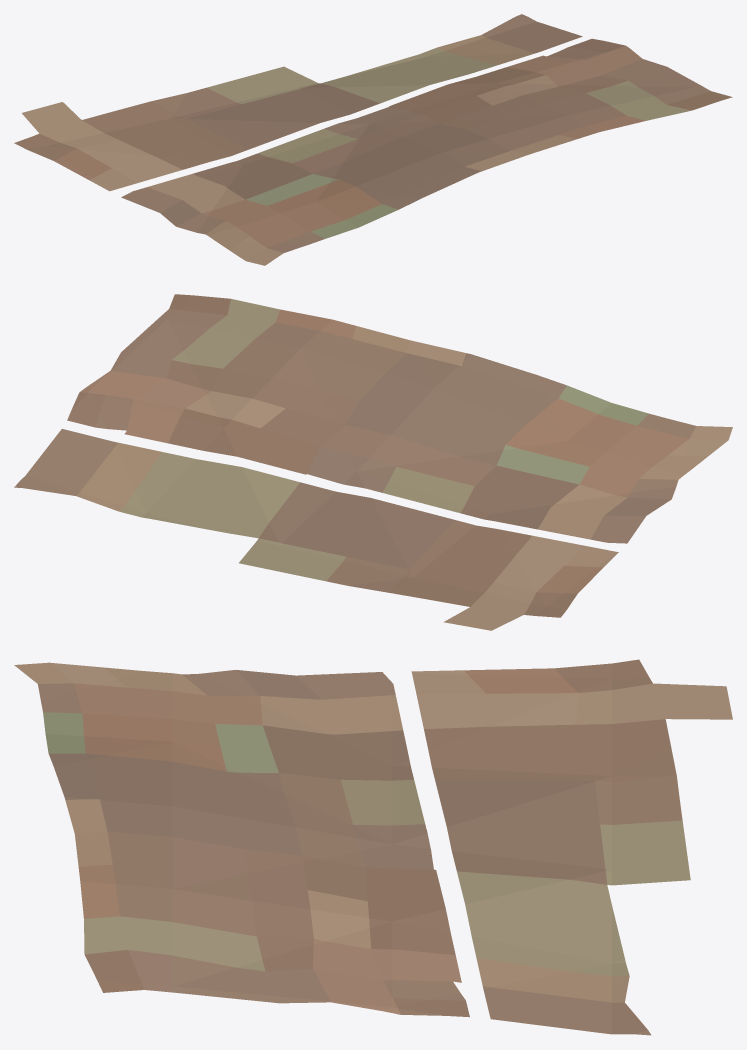
The model's file is farm_-11_-9_soil.glb.
3 renders of one model, top to bottom at view 1: azimuth 30°, elevation 25°; view 2: azimuth 150°, elevation 25°; view 3: azimuth 270°, elevation 25°, orthographic. The views are drawn at different scales.
Parts seen in each view (by area): view 1: geometry_0; view 2: geometry_0; view 3: geometry_0.
Part boxes in pixels (<box>): geometry_0: <box>14,14,732,265</box>; geometry_0: <box>14,294,732,630</box>; geometry_0: <box>14,659,732,1035</box>.
Bounding box in the file's own units: 344 × 33.14 × 262.
